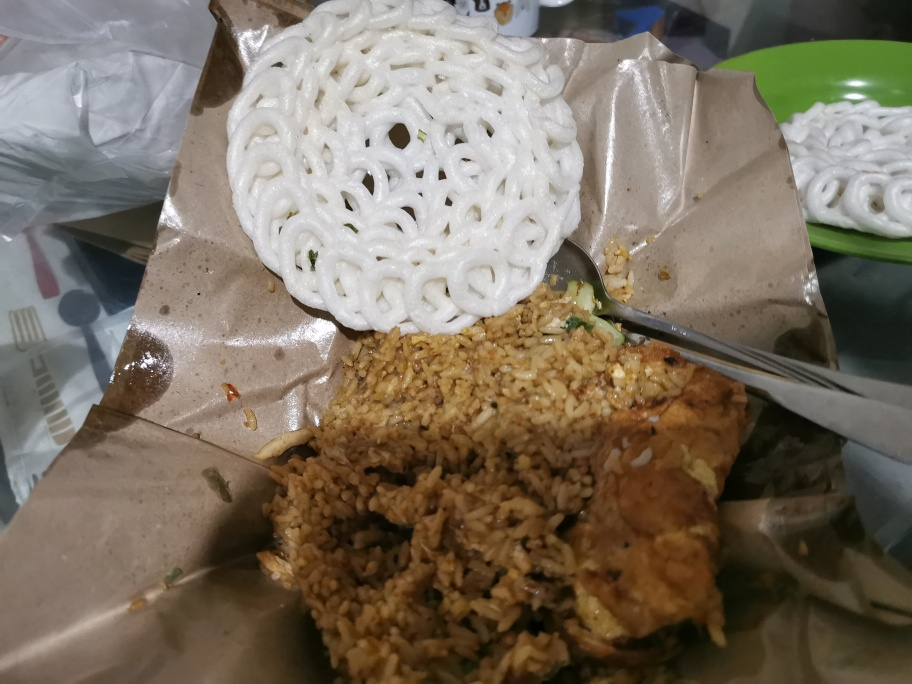kerupuk: (223, 1, 582, 327)
nasi goreng: (283, 328, 742, 673)
